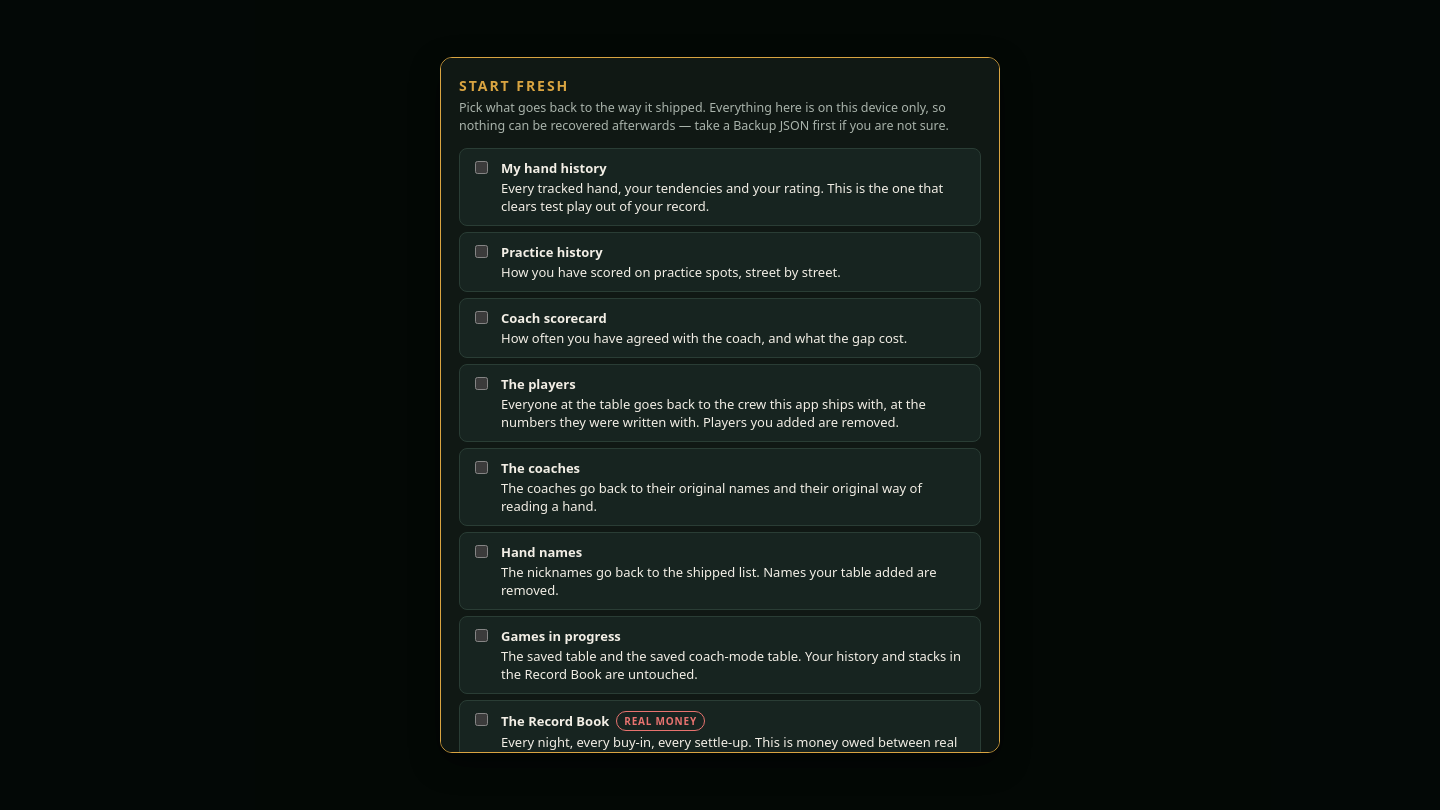
Scenario: starting fresh › disarms the confirmation when the selection changes under it
Click the text "The coaches" at (541, 468), box [501,459,580,477]
(page scrolled)
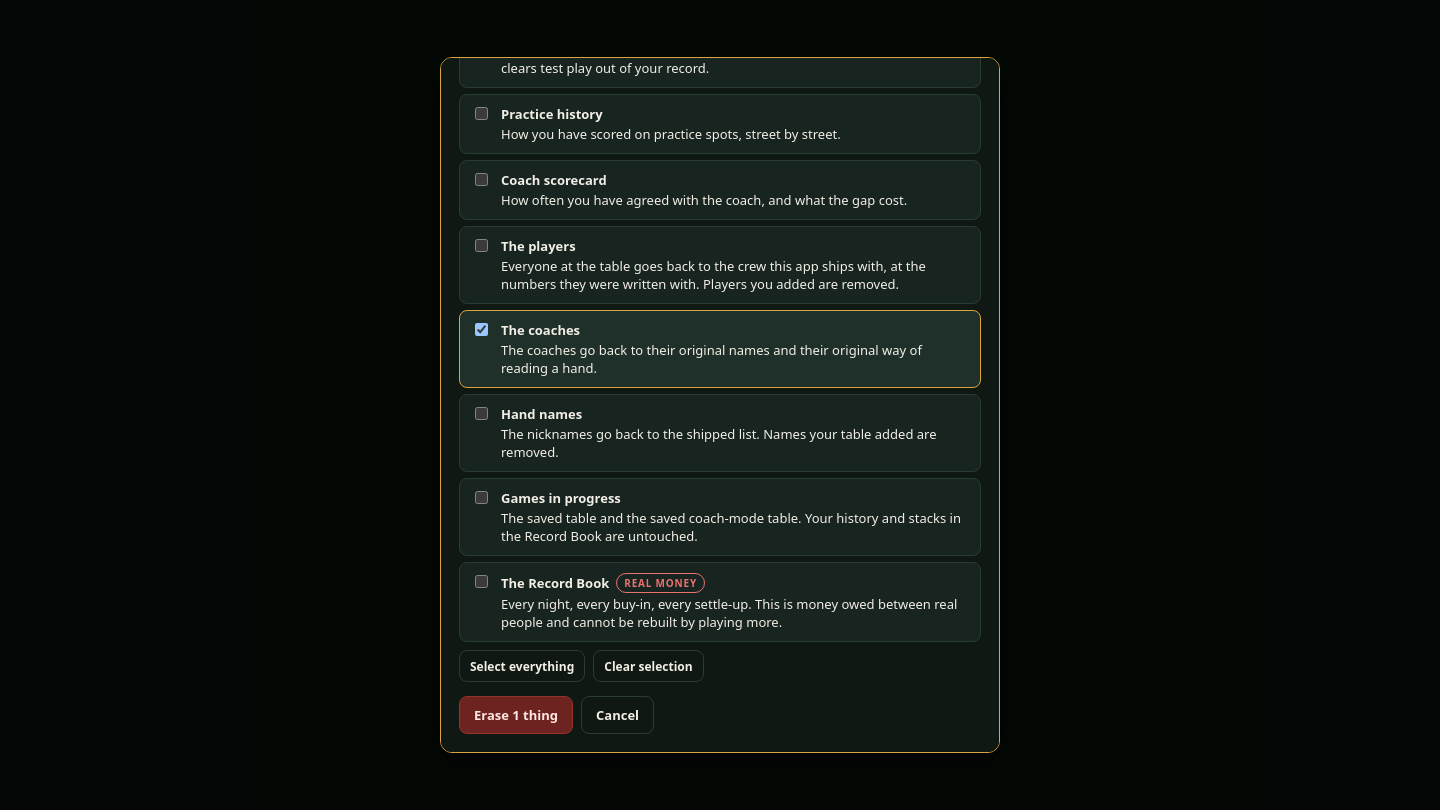
Click the button "Erase 1 thing" at (516, 715), box [459,696,573,734]
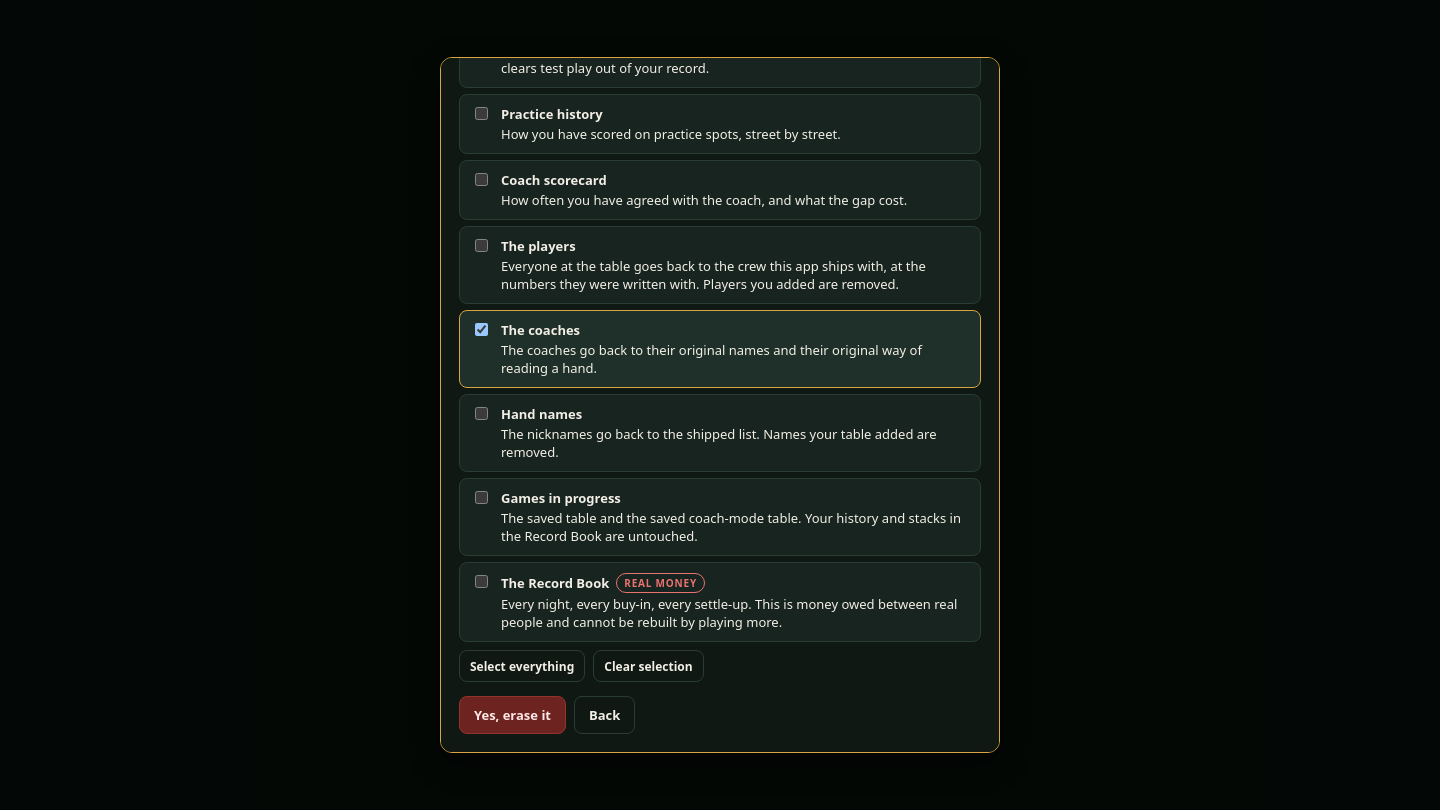
// Changing your mind must not leave a live "yes" button under your thumb.
Click the text "Hand names" at (542, 414), box [501,405,582,423]
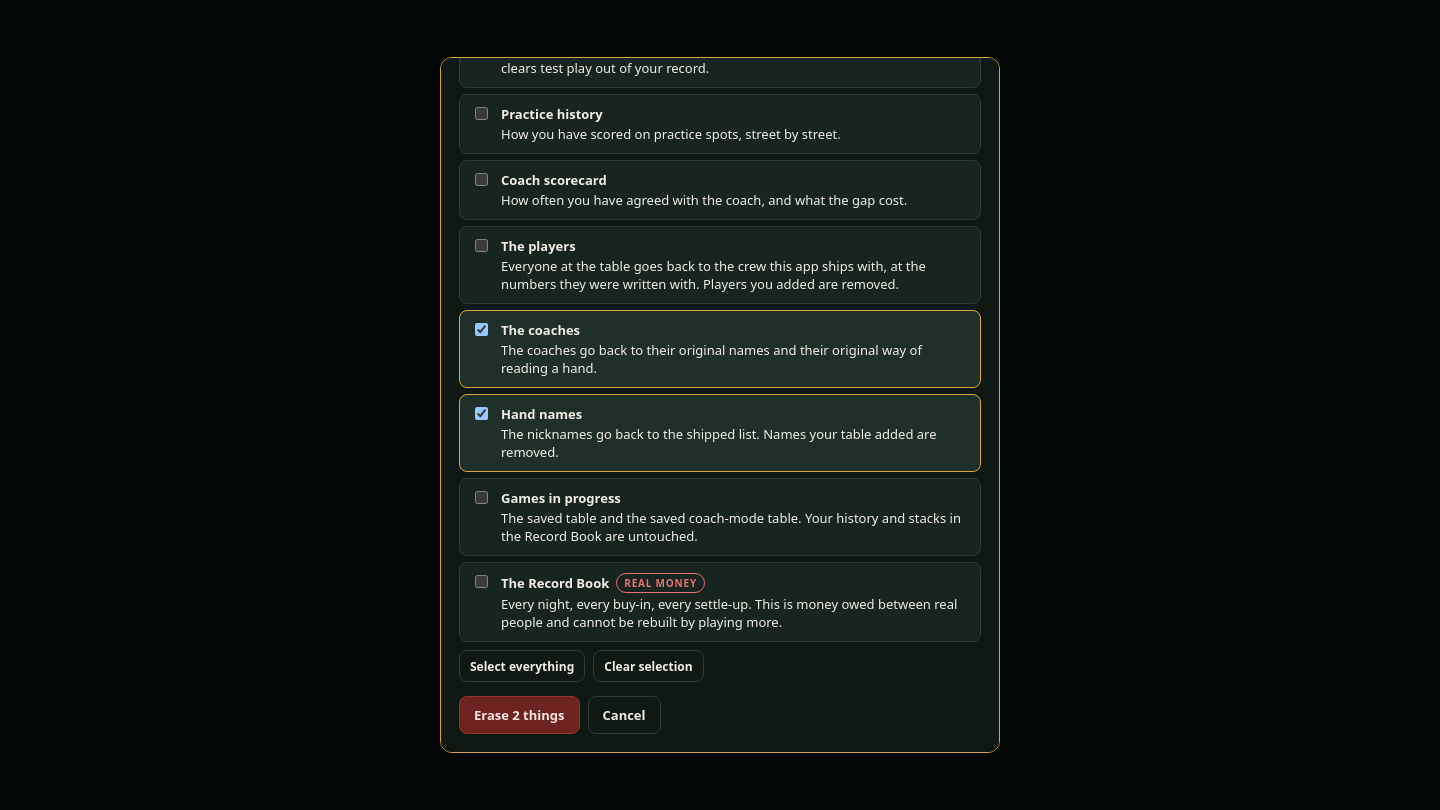
Check: the button "Yes, erase" is gone
